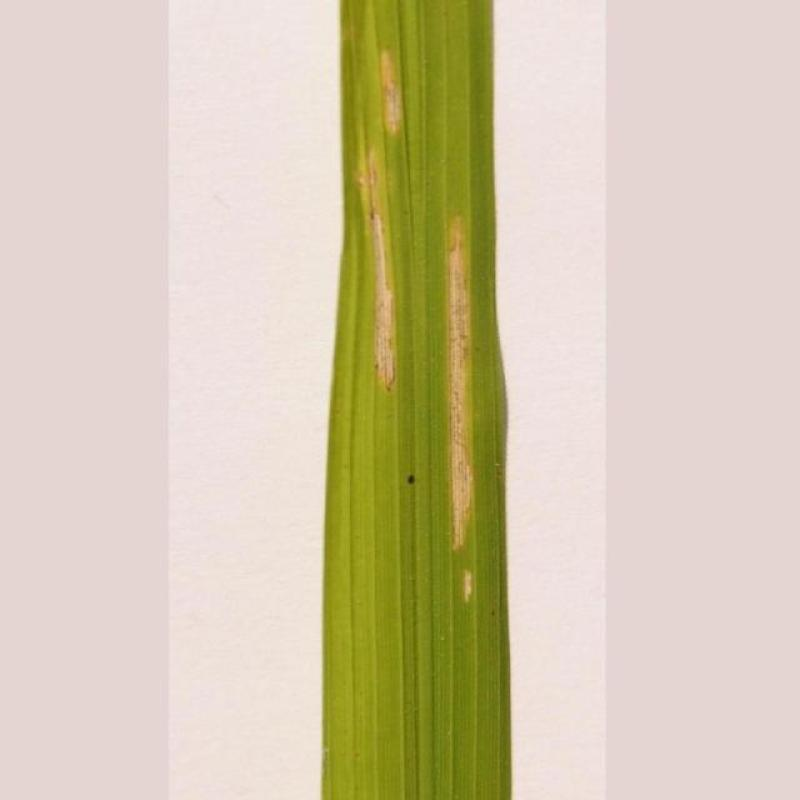Bacterial_Leaf_Blight: (421, 216, 494, 605), (340, 40, 415, 382)
